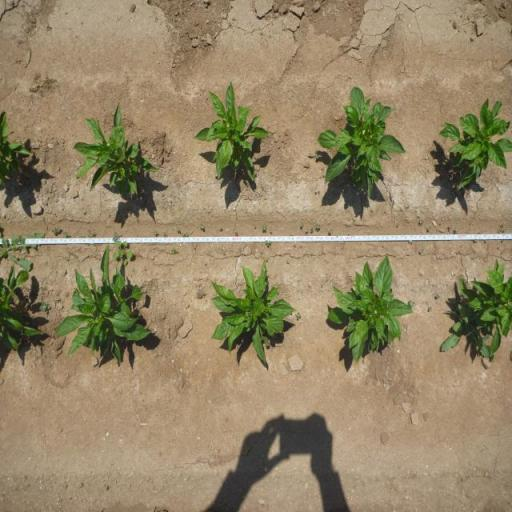plant: (58, 262, 151, 369), (318, 86, 406, 199), (324, 254, 410, 364), (208, 258, 296, 364), (73, 102, 160, 202), (190, 80, 272, 182), (437, 95, 512, 193), (459, 257, 512, 358), (0, 270, 41, 351), (0, 109, 34, 192)
weed: (440, 275, 497, 362), (0, 230, 44, 272), (112, 240, 134, 266), (39, 299, 51, 314), (308, 150, 323, 160), (111, 232, 122, 241), (86, 229, 96, 238), (51, 226, 60, 235), (170, 246, 178, 256), (498, 224, 506, 234), (409, 298, 415, 310), (62, 230, 70, 238), (181, 231, 189, 238), (264, 240, 272, 247), (296, 311, 301, 321), (199, 222, 204, 230), (262, 224, 267, 232), (152, 230, 158, 236), (434, 294, 440, 300), (426, 226, 432, 232), (163, 231, 168, 238), (314, 224, 321, 229), (176, 226, 181, 232), (418, 249, 424, 254), (427, 306, 432, 312), (310, 226, 314, 232), (328, 228, 332, 234), (408, 240, 414, 244), (418, 220, 424, 224), (448, 225, 452, 230), (300, 222, 303, 228), (454, 228, 458, 232), (474, 239, 478, 243), (270, 228, 272, 234), (396, 223, 399, 227), (220, 226, 222, 230), (306, 229, 308, 232)
